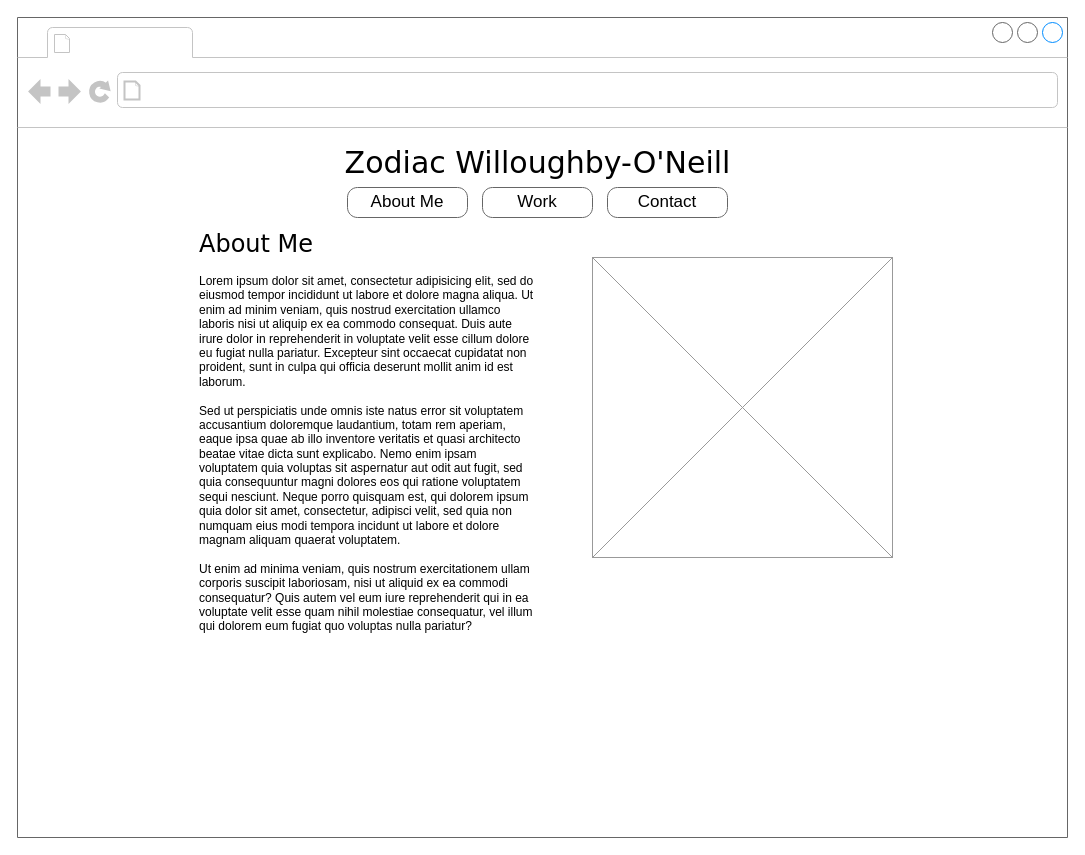
Image size: 1085x855. Some labels were removed from this diagram. Here are the shapes that lost their labels. From the top down, the centre of each, then its label:
At pixel 132 42: "Page 1".
At pixel 272 90: "https://www.default.com".
